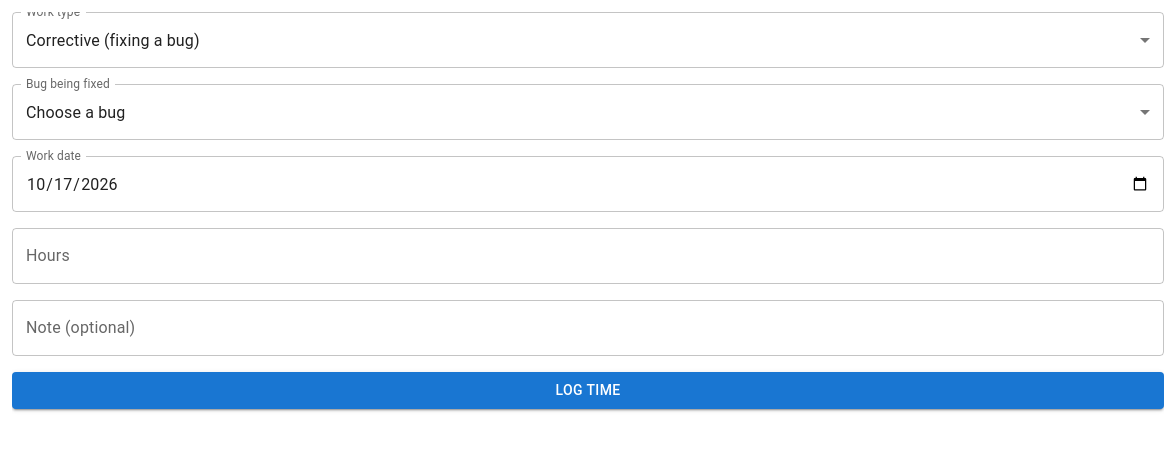
Test: TimeLogForm › rejects hours "0"
Select "#7 Declined cards are charged" in the dropdown labelled "Bug being fixed" at (588, 112), box [12,84,1164,140]
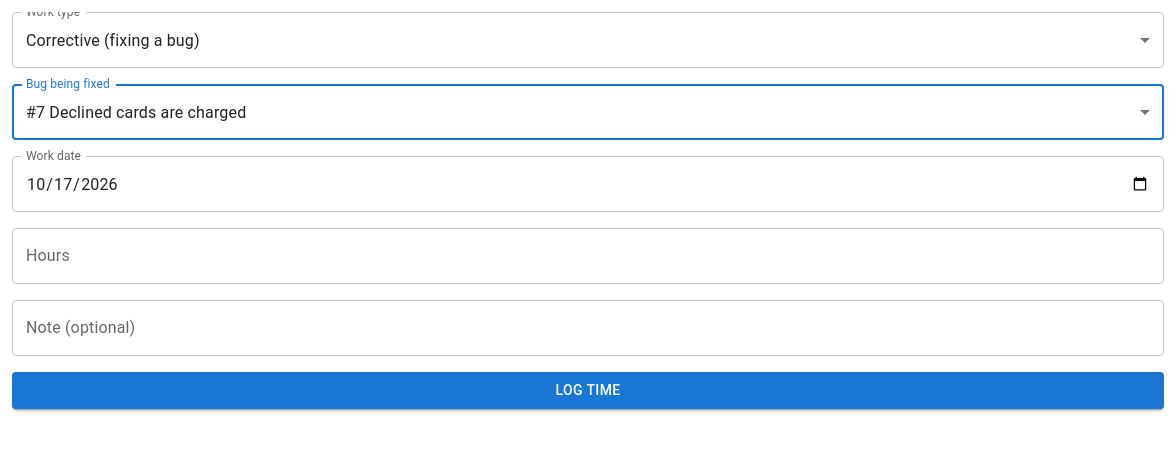
Type "0" into the field labelled "Hours" at (588, 256), box [12,228,1164,284]
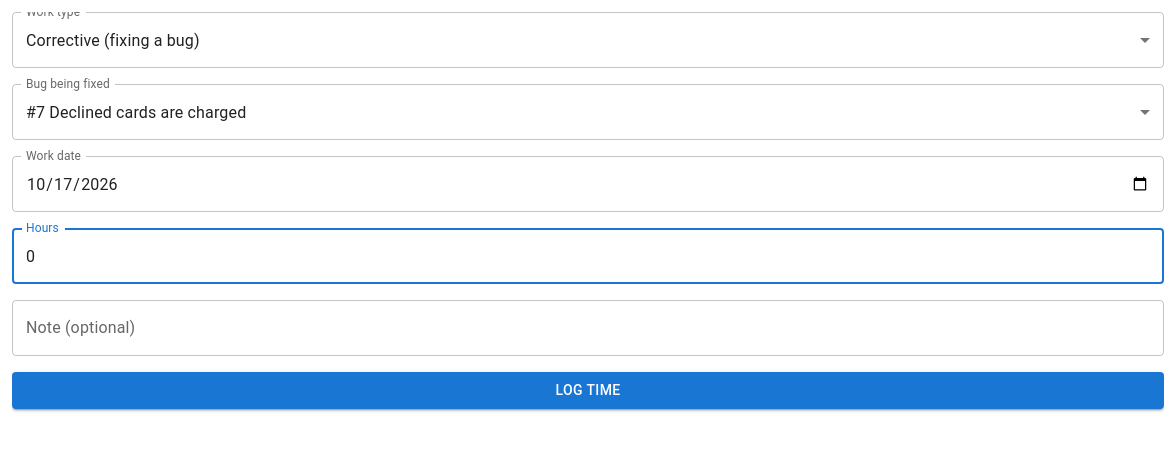
Click the button "Log time" at (588, 390), box [12,372,1164,408]
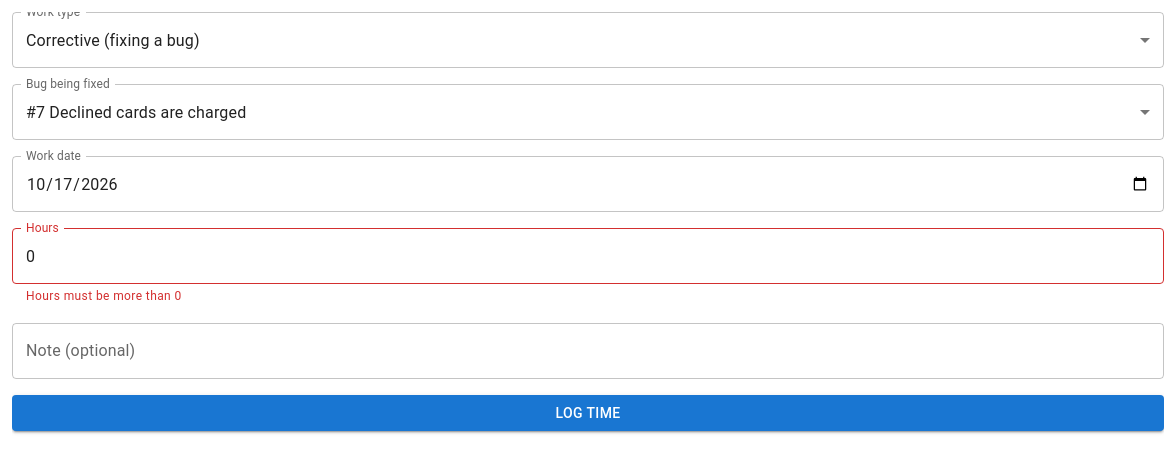
Now the text "Hours must be more than 0" is shown, box [26,289,182,303]
